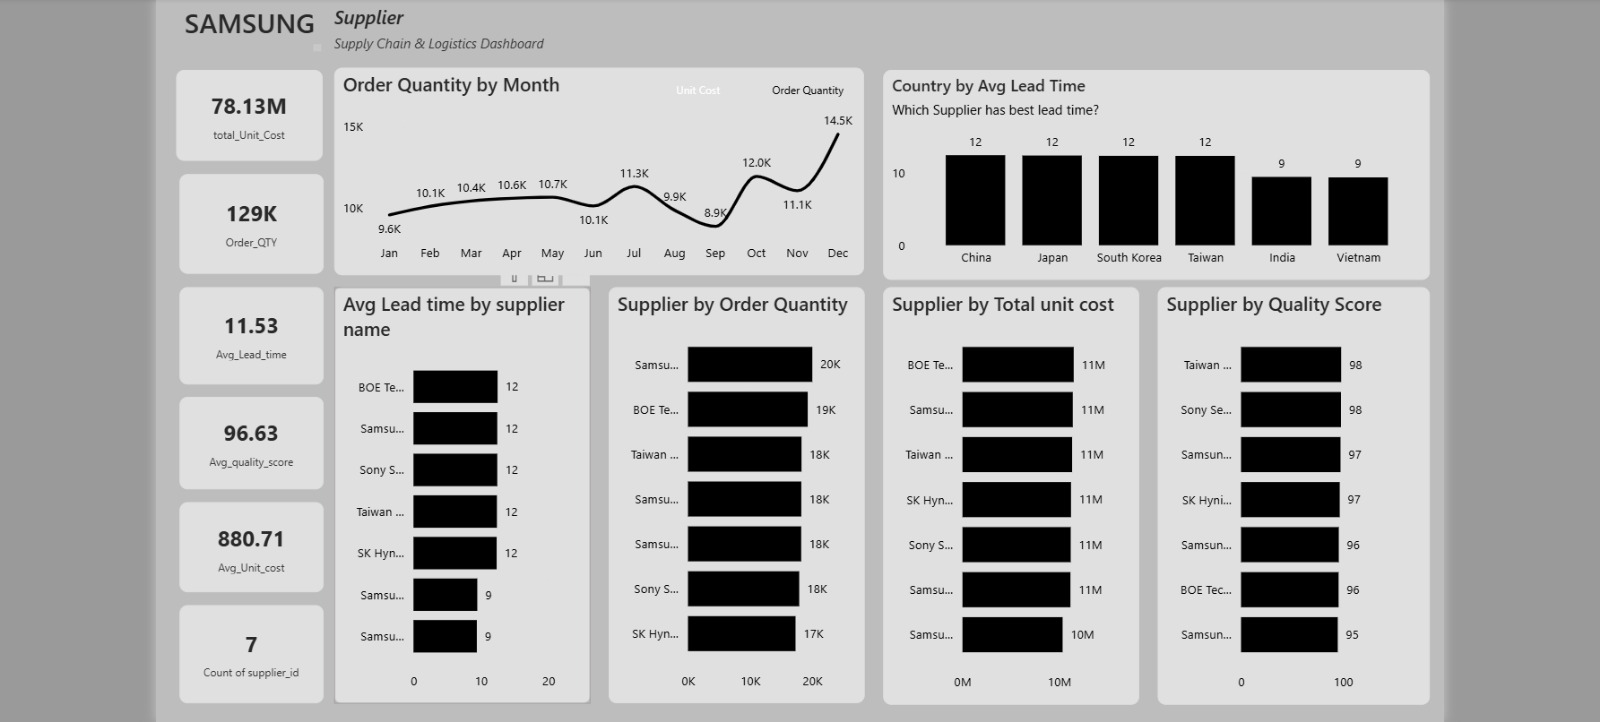

What the dashboard file says about the page in this screenshot:
{"tool":"powerbi","page":{"name":"Supplier","canvas":[1280,720],"ordinal":2},"visuals":[{"type":"shape","title":"Supplier","box":[177.3,6,217.2,51.9],"z":0},{"type":"lineChart","title":"Order Quantity by Month","fields":{"Category":["dim_date.Month_Short"],"Y":["Folder.Order_QTY"]},"box":[177,68.5,526,206.3],"z":0,"group":"g1"},{"type":"advancedSlicerVisual","fields":{"Values":["Cost_QTY_Supplier.Cost_QTY_Supplier"]},"box":[482.6,71.1,222,39.8],"z":1000,"group":"g1"},{"type":"cardVisual","fields":{"Data":["Folder.Order_QTY"]},"box":[22.9,174.7,143.6,98.9],"z":1000},{"type":"cardVisual","fields":{"Data":["fact_procurement.Avg_Unit_cost"]},"box":[22.9,500.9,143.6,89.3],"z":2000},{"type":"cardVisual","fields":{"Data":["Folder.Avg_Lead_time"]},"box":[22.9,286.7,143.6,96.5],"z":3000},{"type":"cardVisual","fields":{"Data":["fact_procurement.Avg_quality_score"]},"box":[22.9,396.2,143.6,91.7],"z":4000},{"type":"cardVisual","fields":{"Data":["CountNonNull(dim_supplier.supplier_id)"]},"box":[22.9,603.2,143.6,97.7],"z":5000},{"type":"cardVisual","fields":{"Data":["fact_procurement.total_Unit_Cost"]},"box":[20.5,71.2,146,90.5],"z":6000},{"type":"clusteredBarChart","title":"Avg Lead time by supplier name","fields":{"Y":["Folder.Avg_Lead_time"],"Category":["dim_supplier.supplier_name"]},"box":[177.3,287.1,254.6,413.8],"z":7000},{"type":"clusteredBarChart","title":"Supplier by Order Quantity","fields":{"Category":["dim_supplier.supplier_name"],"Y":["Folder.Order_QTY"]},"box":[450,287.1,254.6,413.8],"z":8000},{"type":"clusteredBarChart","title":"Supplier by Total unit cost","fields":{"Category":["dim_supplier.supplier_name"],"Y":["fact_procurement.total_Unit_Cost"]},"box":[722.7,287.1,254.6,415],"z":9000},{"type":"clusteredColumnChart","title":"Country by Avg Lead Time","fields":{"Category":["dim_supplier.country"],"Y":["Folder.Avg_Lead_time"]},"box":[722.7,71.2,542.9,208.7],"z":10000},{"type":"clusteredBarChart","title":"Supplier by Quality Score","fields":{"Category":["dim_supplier.supplier_name"],"Y":["fact_procurement.Avg_quality_score"]},"box":[995.3,287.1,270.2,415],"z":11000},{"type":"group","id":"g1","title":"Group 1","box":[177,68.5,527.6,206.3],"z":12000},{"type":"textbox","title":"SAMSUNG","box":[22.9,6,146,51.9],"z":13000}]}

Visuals, with their boxes on the page's 1280x720 design canvas (x1, y1, x2, y2). These are canvas units, not pixel positions in the 1600x722 screenshot, which may show the page scaled, cropped or inside an application window:
"Supplier" shape: box(177, 6, 394, 58)
"Order Quantity by Month" lineChart: box(177, 68, 703, 275)
advancedSlicerVisual - Cost_QTY_Supplier.Cost_QTY_Supplier: box(483, 71, 705, 111)
cardVisual - Folder.Order_QTY: box(23, 175, 166, 274)
cardVisual - fact_procurement.Avg_Unit_cost: box(23, 501, 166, 590)
cardVisual - Folder.Avg_Lead_time: box(23, 287, 166, 383)
cardVisual - fact_procurement.Avg_quality_score: box(23, 396, 166, 488)
cardVisual - CountNonNull(dim_supplier.supplier_id): box(23, 603, 166, 701)
cardVisual - fact_procurement.total_Unit_Cost: box(20, 71, 166, 162)
"Avg Lead time by supplier name" clusteredBarChart: box(177, 287, 432, 701)
"Supplier by Order Quantity" clusteredBarChart: box(450, 287, 705, 701)
"Supplier by Total unit cost" clusteredBarChart: box(723, 287, 977, 702)
"Country by Avg Lead Time" clusteredColumnChart: box(723, 71, 1266, 280)
"Supplier by Quality Score" clusteredBarChart: box(995, 287, 1266, 702)
"Group 1" group: box(177, 68, 705, 275)
"SAMSUNG" textbox: box(23, 6, 169, 58)
